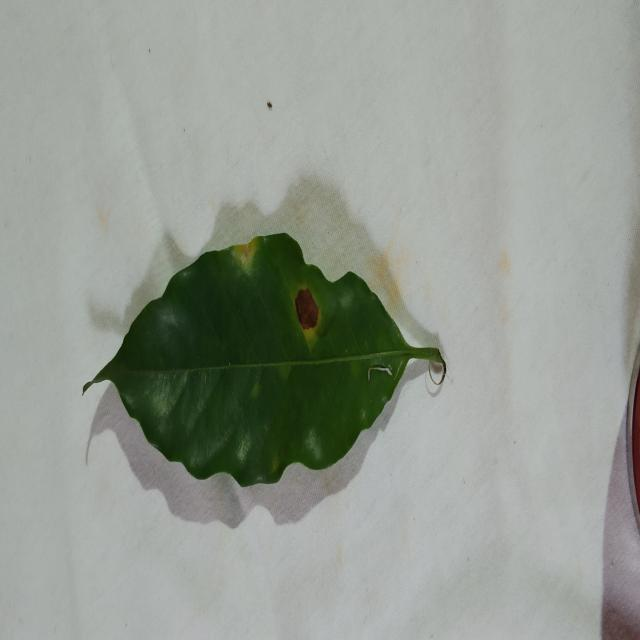Enfermedad-Roya: (86, 233, 447, 493)
